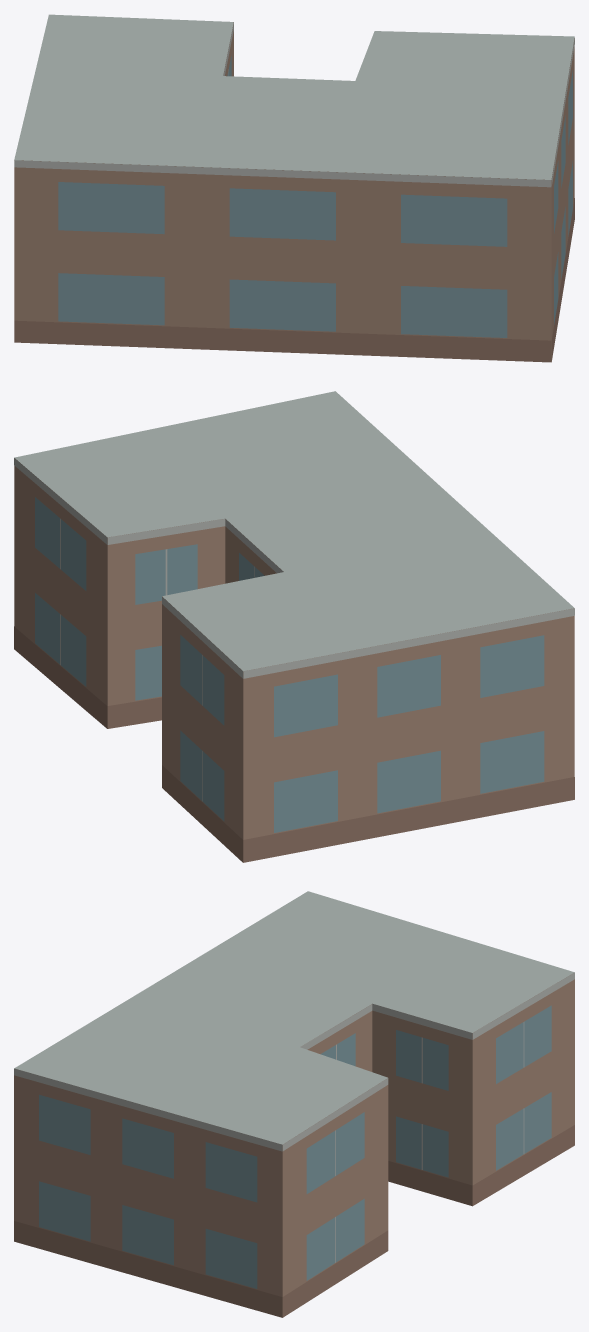
Rendered from survey-upis-32933141.glb.
3 renders of one model, top to bottom at view 1: azimuth 30°, elevation 25°; view 2: azimuth 150°, elevation 25°; view 3: azimuth 270°, elevation 25°, orthographic. The views are drawn at different scales.
Visible parts, largest first — view 1: survey-upis-32933141.tmp; view 2: survey-upis-32933141.tmp; view 3: survey-upis-32933141.tmp.
Part boxes in pixels (x1,y1,x2,y2): survey-upis-32933141.tmp: (14, 14, 574, 362); survey-upis-32933141.tmp: (14, 391, 574, 862); survey-upis-32933141.tmp: (14, 891, 574, 1317).
Size of the model in its own units: 19.16 by 6.1 by 17.91.
